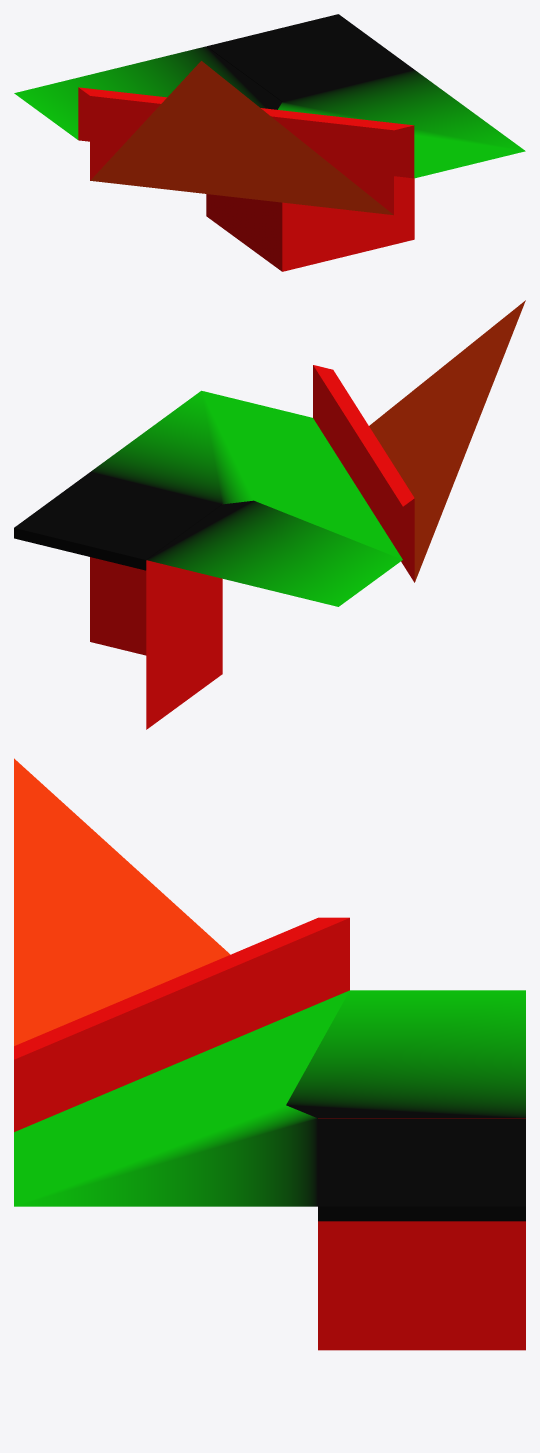
The picture shows the model from 3 angles, top to bottom: view 1: azimuth 30°, elevation 25°; view 2: azimuth 150°, elevation 25°; view 3: azimuth 270°, elevation 25°; orthographic projection. The views are drawn at different scales.
Visible parts, largest first — view 1: None_P_W_E_E_W_S_E_E_None; view 2: None_P_W_E_E_W_S_E_E_None; view 3: None_P_W_E_E_W_S_E_E_None.
Boxes of the visible parts, x1,y1,x2,y2 form: None_P_W_E_E_W_S_E_E_None: (14, 14, 525, 271); None_P_W_E_E_W_S_E_E_None: (14, 300, 525, 729); None_P_W_E_E_W_S_E_E_None: (14, 758, 525, 1350).
Size of the model in its own units: 100 by 100 by 100.
